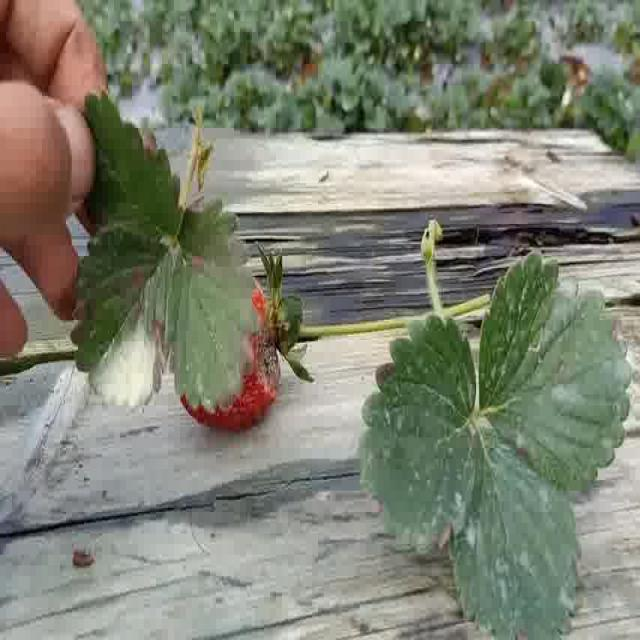Mancha negra Antracnosis: (173, 270, 282, 432)
